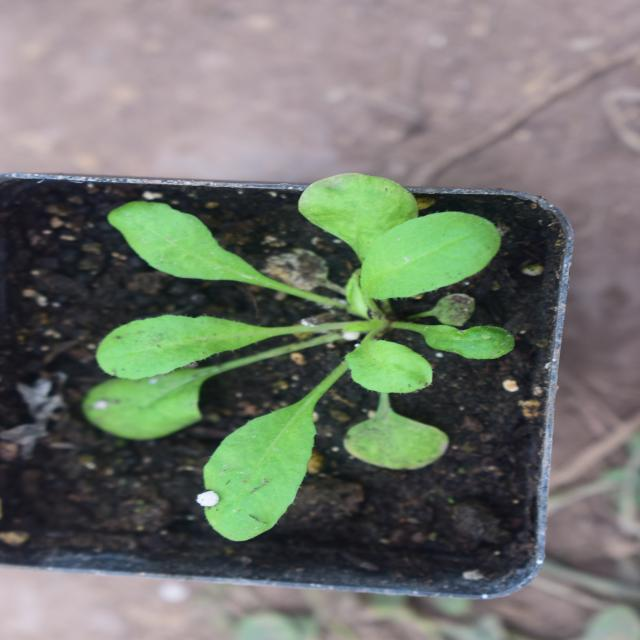Shepherd_Purse: (117, 107, 454, 499)
